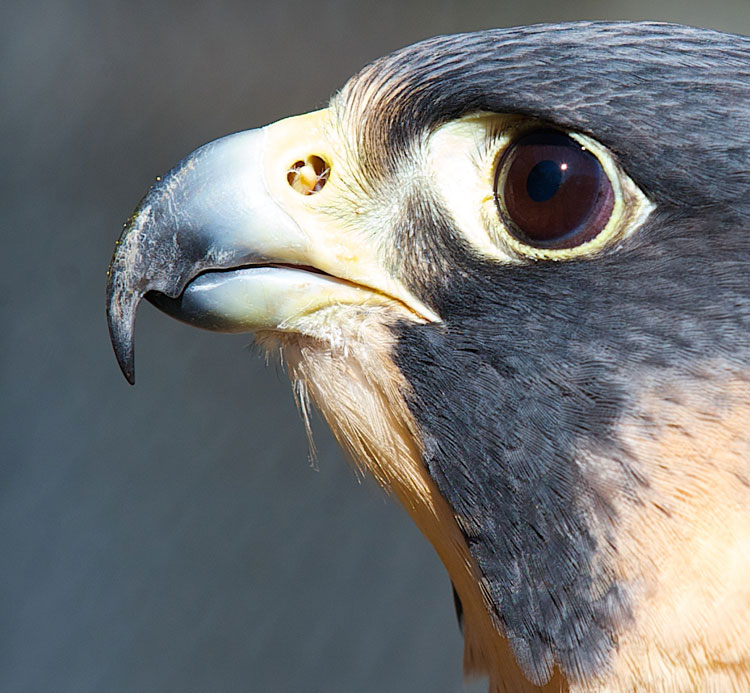Pengoyak Daging: (81, 129, 289, 416)
